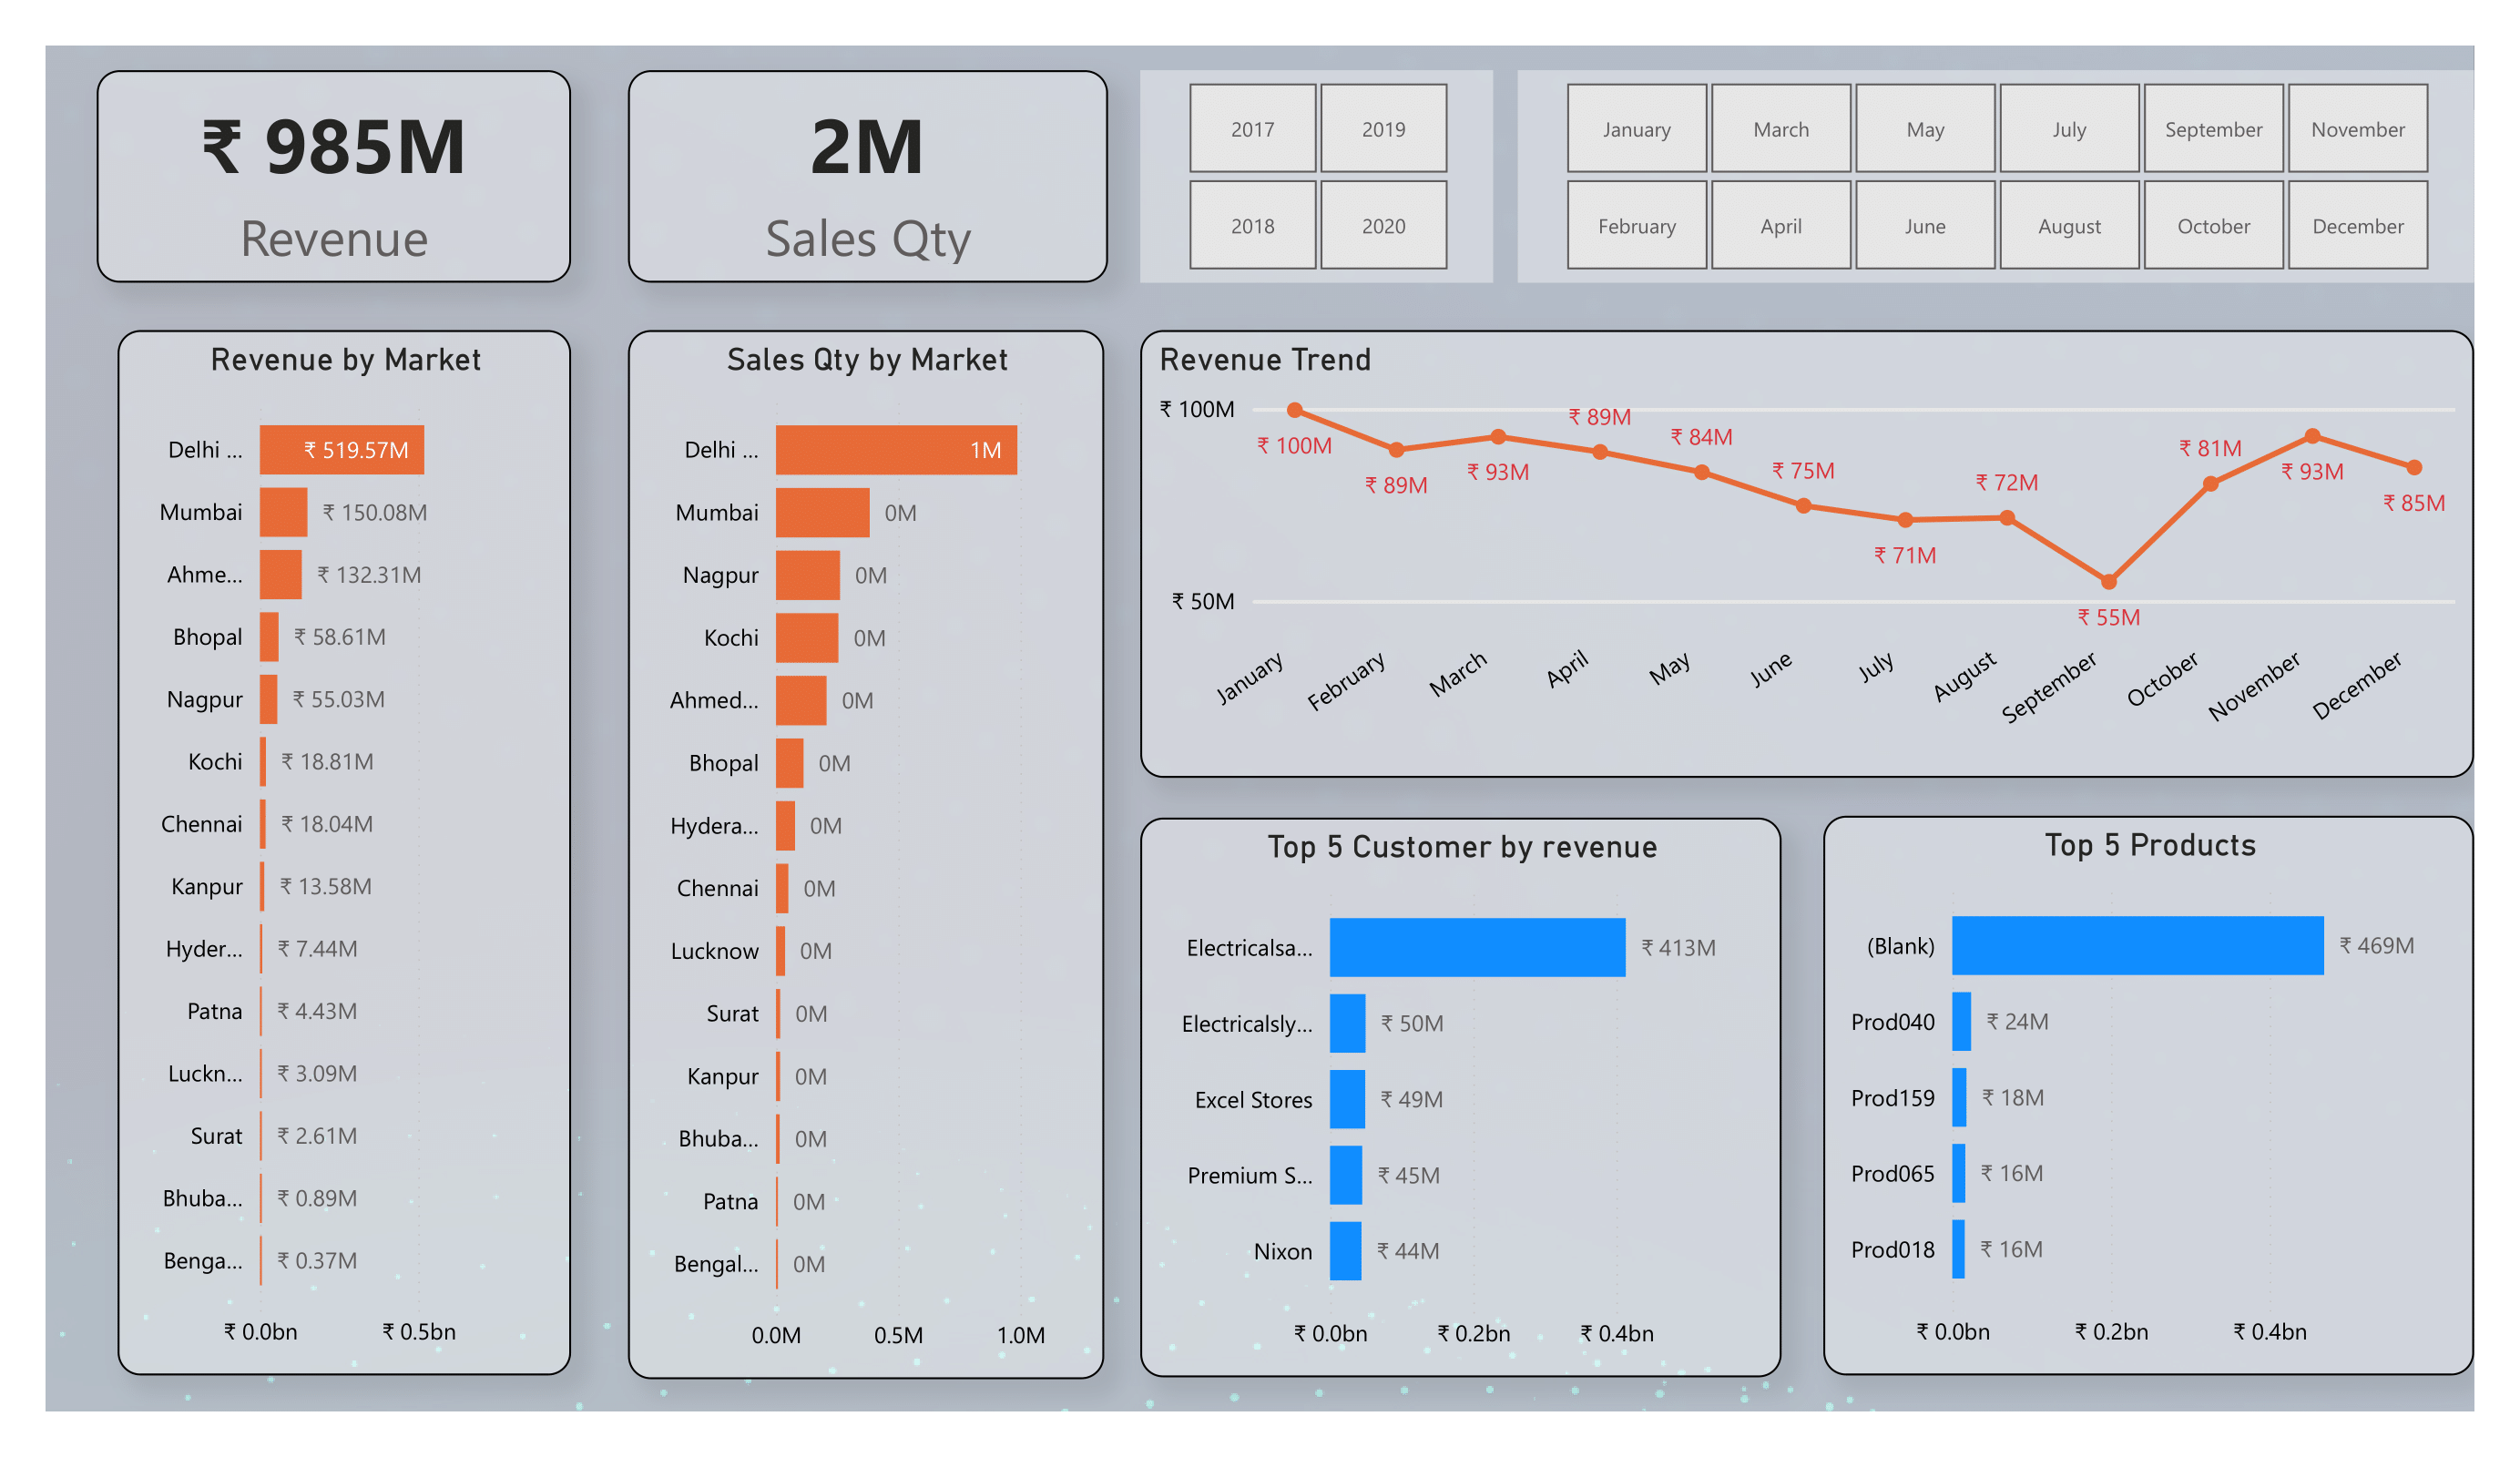

The page's visual inventory and layout, read from the dashboard file:
{"tool":"powerbi","page":{"name":"Basic report","canvas":[1280,720],"ordinal":0},"visuals":[{"type":"card","fields":{"Values":["measure.Revenue"]},"box":[26.8,12.5,250.3,112.6],"z":0},{"type":"card","fields":{"Values":["measure.Sales Qty"]},"box":[307.5,12.5,252.1,112.6],"z":1000},{"type":"barChart","title":"Revenue by Market","fields":{"Y":["measure.Revenue"],"Category":["markets.markets_name"]},"box":[37.5,150.2,239.6,550.6],"z":2000},{"type":"barChart","title":"Sales Qty by Market","fields":{"Y":["measure.Sales Qty"],"Category":["markets.markets_name"]},"box":[307.5,150.2,250.3,552.4],"z":3000},{"type":"slicer","fields":{"Values":["date.year"]},"box":[577.4,12.5,185.9,112.6],"z":4000},{"type":"slicer","fields":{"Values":["date.cy_date.Variation.Date Hierarchy.Month"]},"box":[775.9,12.5,504.1,112.6],"z":5000},{"type":"barChart","title":"Top 5 Customer by revenue","fields":{"Category":["customers.custmer_name"],"Y":["measure.Revenue"]},"box":[577,407,338,295],"z":6000},{"type":"barChart","title":"Top 5 Products","fields":{"Y":["measure.Revenue"],"Category":["products.product_code"]},"box":[936.8,405.8,343.2,295],"z":7000},{"type":"lineChart","title":"Revenue Trend","fields":{"Y":["measure.Revenue"],"Category":["date.cy_date.Variation.Date Hierarchy.Month"]},"box":[577.4,150.2,702.6,236],"z":8000}]}

Visuals, with their boxes on the page's 1280x720 design canvas (x1, y1, x2, y2). These are canvas units, not pixel positions in the 2520x1457 screenshot, which may show the page scaled, cropped or inside an application window:
card - measure.Revenue: left=27, top=12, right=277, bottom=125
card - measure.Sales Qty: left=308, top=12, right=560, bottom=125
"Revenue by Market" barChart: left=38, top=150, right=277, bottom=701
"Sales Qty by Market" barChart: left=308, top=150, right=558, bottom=703
slicer - date.year: left=577, top=12, right=763, bottom=125
slicer - date.cy_date.Variation.Date Hierarchy.Month: left=776, top=12, right=1280, bottom=125
"Top 5 Customer by revenue" barChart: left=577, top=407, right=915, bottom=702
"Top 5 Products" barChart: left=937, top=406, right=1280, bottom=701
"Revenue Trend" lineChart: left=577, top=150, right=1280, bottom=386
